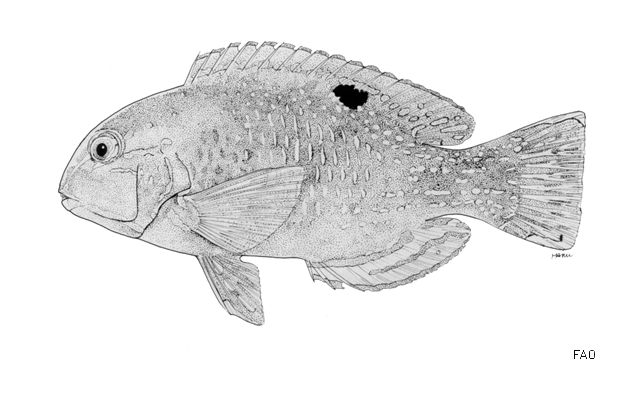fish: (60, 42, 588, 327)
